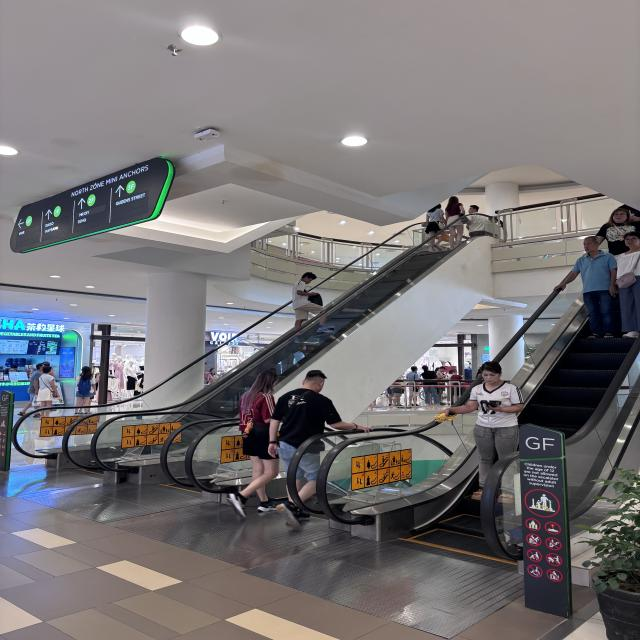escalator: (225, 198, 640, 640), (7, 201, 516, 523)
